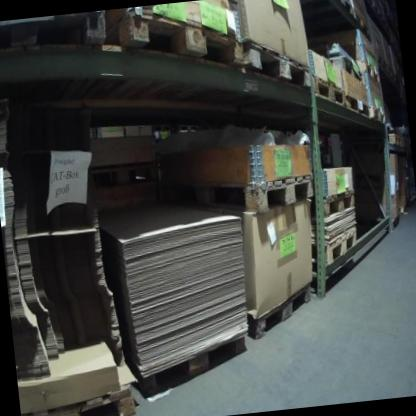pallet: (106, 0, 246, 82), (162, 168, 315, 225), (136, 332, 252, 400), (0, 10, 108, 57), (246, 280, 318, 342), (242, 33, 312, 94), (18, 381, 136, 416), (85, 160, 160, 193), (321, 223, 360, 267), (310, 71, 347, 110), (321, 188, 357, 220), (354, 55, 381, 86), (344, 90, 368, 117), (351, 7, 368, 37), (367, 102, 387, 125), (327, 0, 354, 17), (387, 130, 401, 148)
